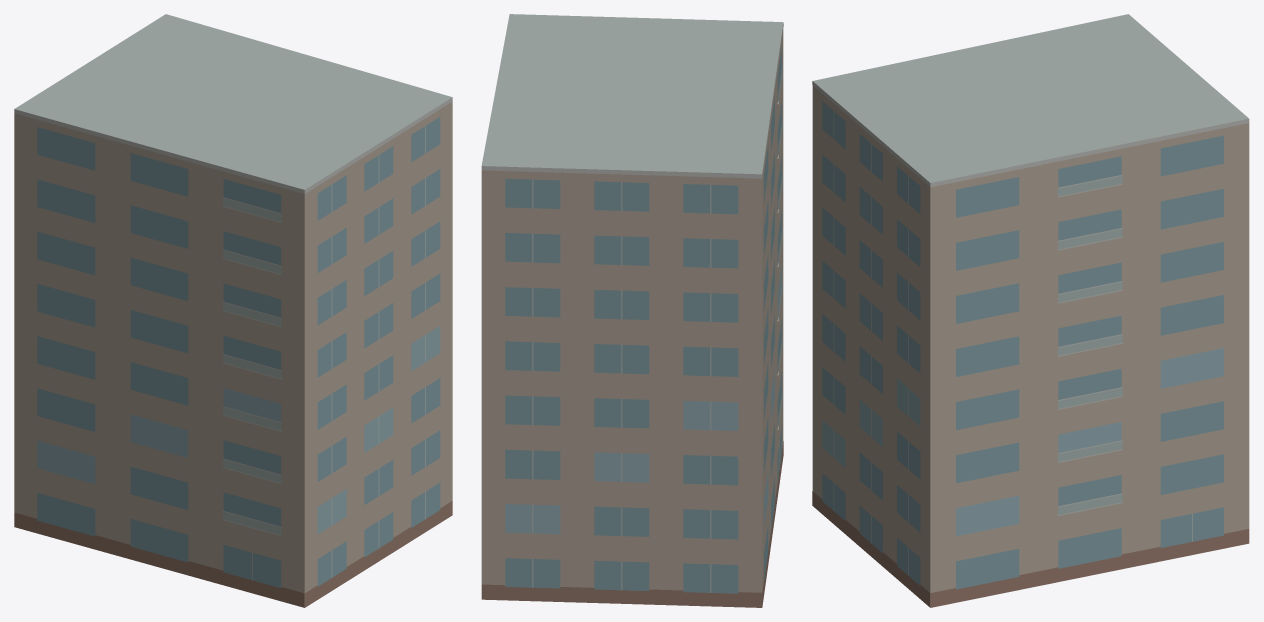
The model's file is survey-upis-32964031.glb.
3 views of the same model, side by side, from view 1: azimuth 30°, elevation 25°; view 2: azimuth 150°, elevation 25°; view 3: azimuth 270°, elevation 25° (orthographic). The views are drawn at different scales.
Parts seen in each view (by area): view 1: survey-upis-32964031.tmp; view 2: survey-upis-32964031.tmp; view 3: survey-upis-32964031.tmp.
Part boxes in pixels (x1,y1,x2,y2): survey-upis-32964031.tmp: [14, 14, 452, 607]; survey-upis-32964031.tmp: [481, 14, 783, 607]; survey-upis-32964031.tmp: [812, 14, 1249, 607].
Size of the model in its own units: 20.84 by 24.4 by 22.75.
